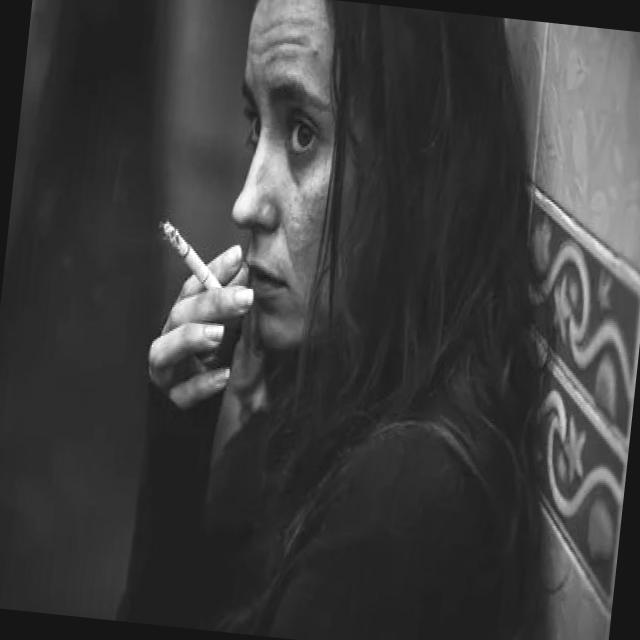cigarette: (145, 208, 240, 301)
